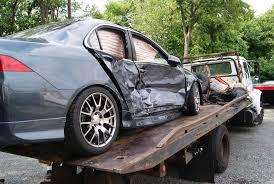RunningBoard-Dent: (117, 103, 188, 128)
doorouter-dent: (141, 54, 182, 110), (117, 55, 144, 114)
